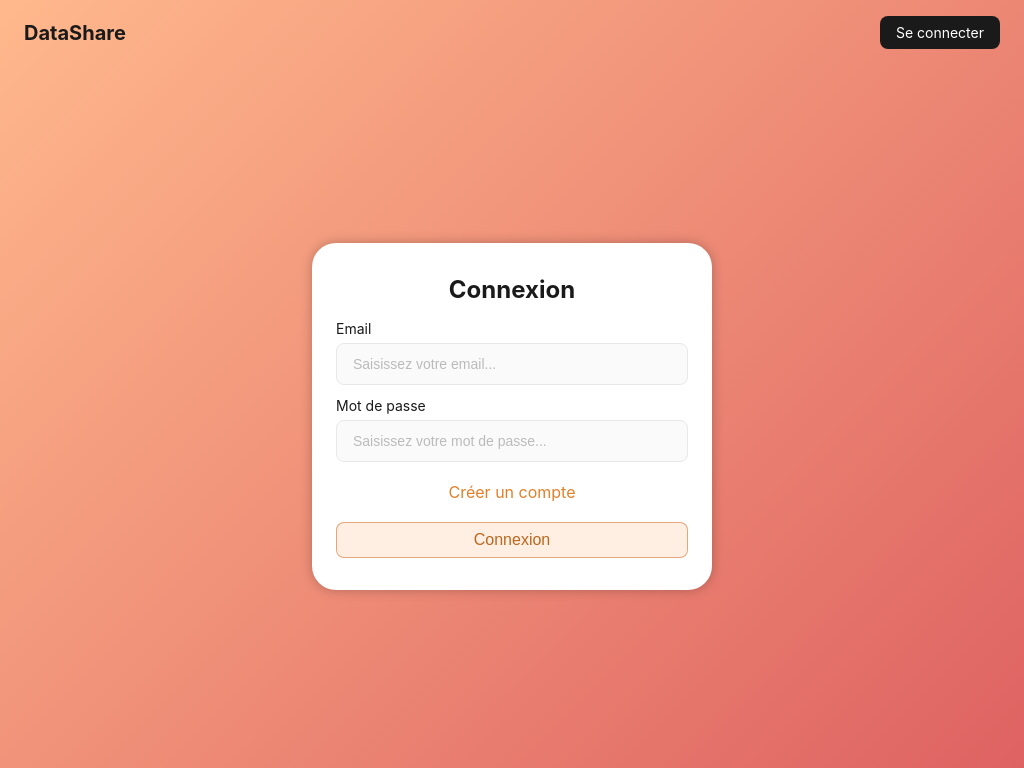
Test: Authentication › should show error with invalid credentials
Type "wrong@datashare.fr" into the field with id "email" at (512, 364), box [336,343,688,385]
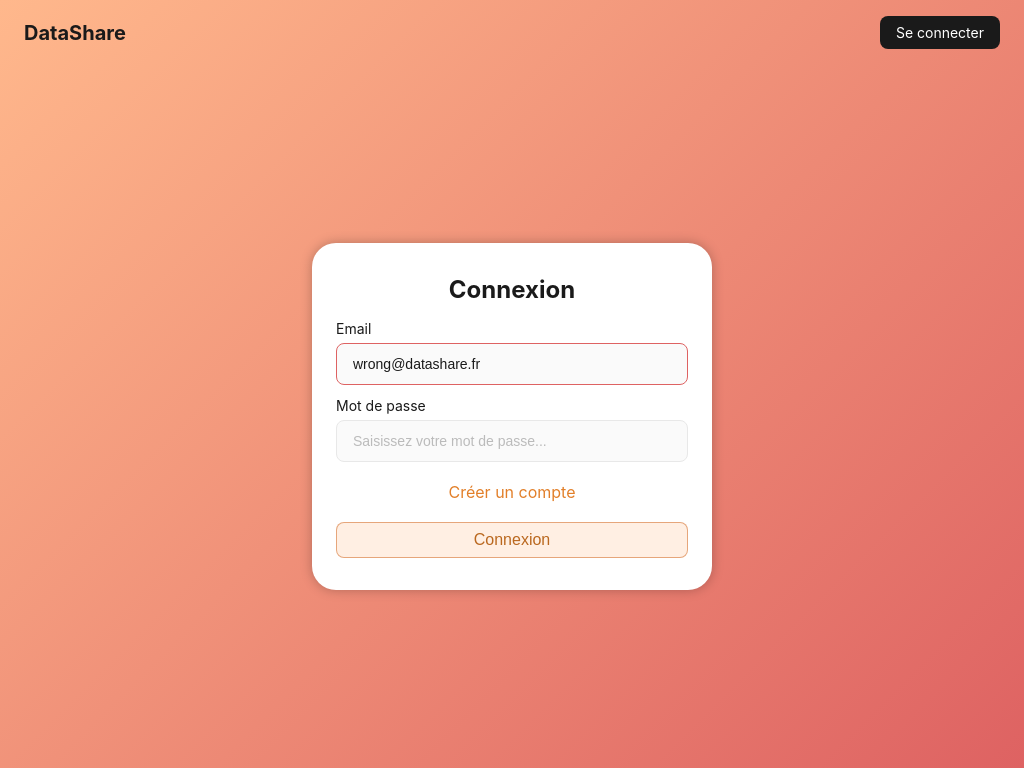
Type "wrongpassword" into the password field with placeholder "Saisissez votre mot de passe..." at (512, 441), box [336,420,688,462]
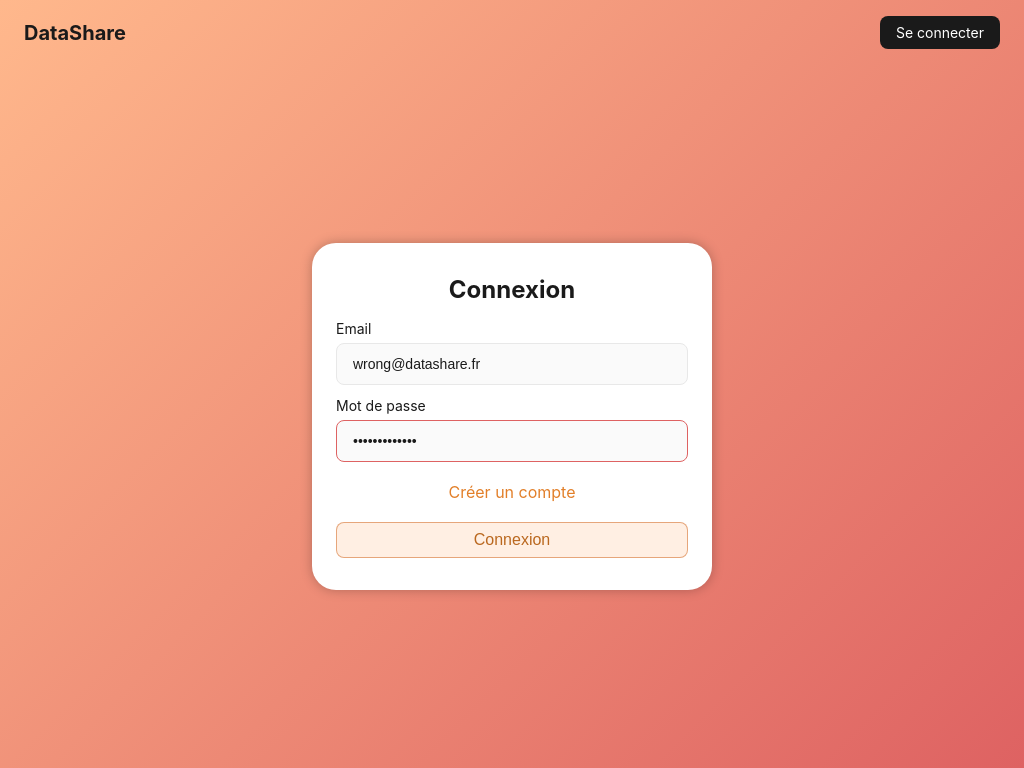
Click the submit button at (512, 540), box [336,522,688,558]
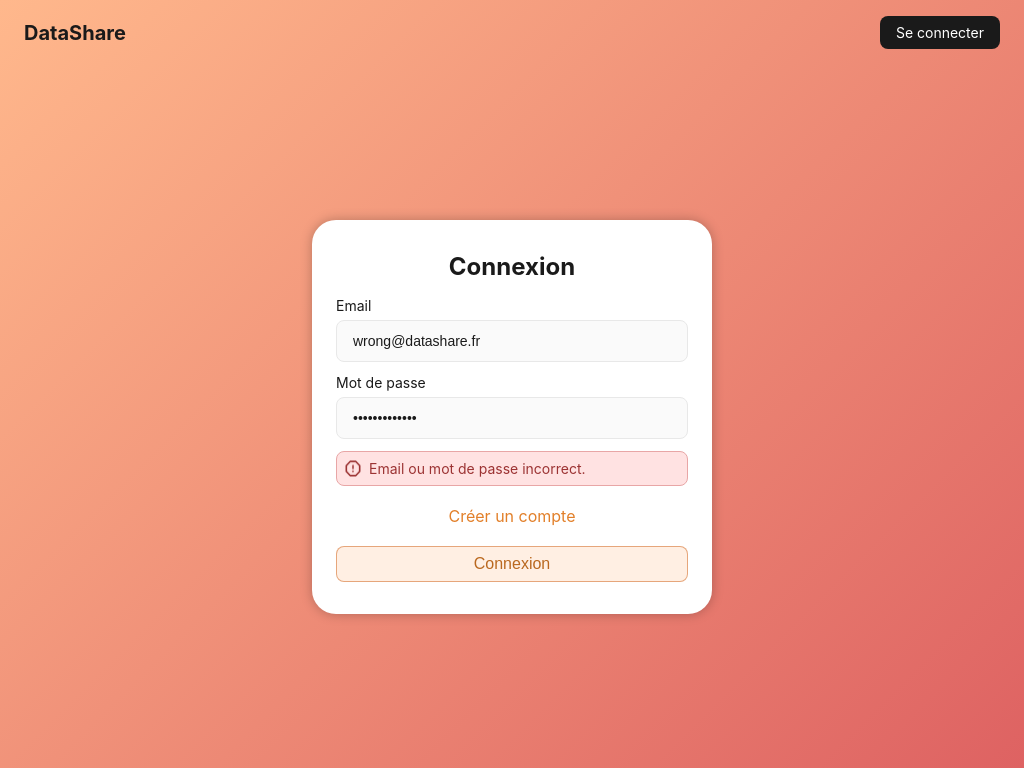
Result: the message "Email ou mot de passe incorrect." is shown at [336,450,688,486]
